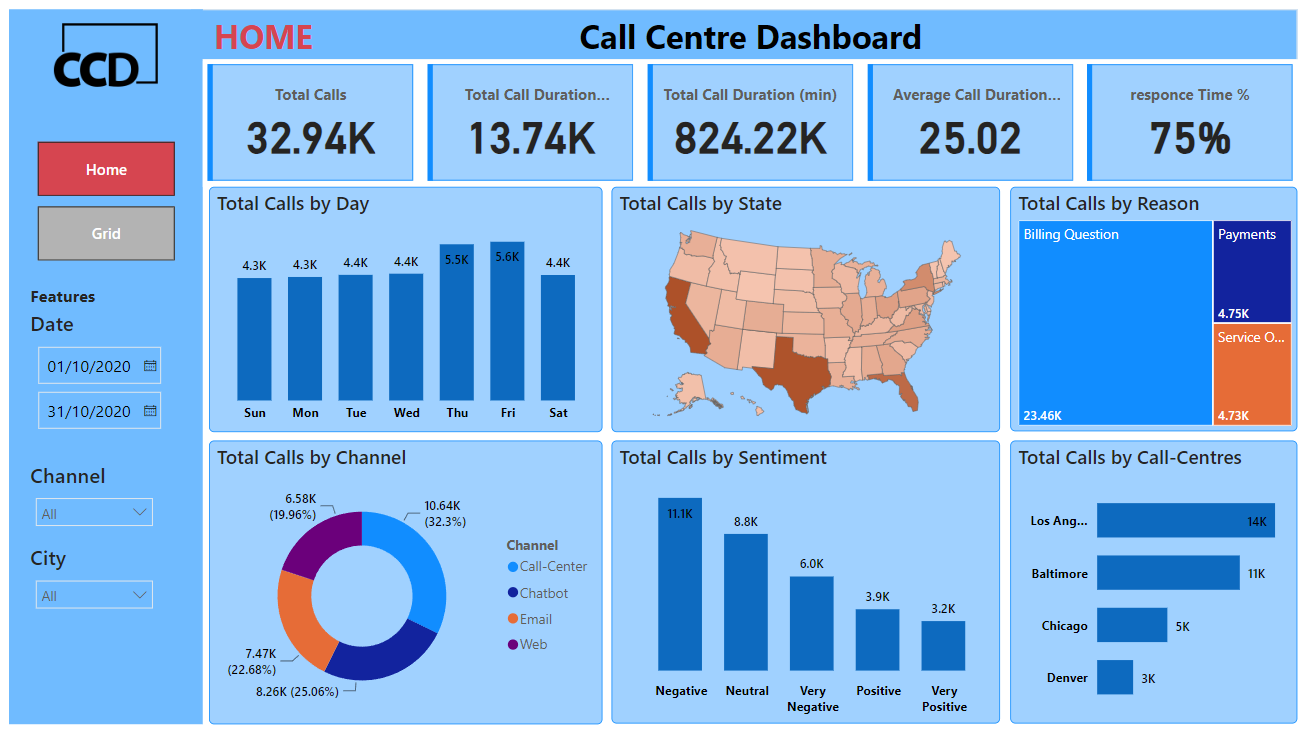

The dashboard page shown, as its layout file describes it:
{"tool":"powerbi","page":{"name":"Home","canvas":[1280,720],"ordinal":0},"visuals":[{"type":"shape","box":[188.3,11,1081.8,50.1],"z":0},{"type":"shape","box":[9.8,11,189.5,699.2],"z":1000},{"type":"cardVisual","fields":{"Data":["Call_Center_Data.Total Calls","Call_Center_Data.Total Call Duration (hours)","Call_Center_Data.Total Call Duration (min)","Call_Center_Data.Average Call Duration (Min)","Call_Center_Data.responce Time %"]},"box":[199,60.4,1071.7,124.9],"z":2000},{"type":"textbox","box":[539.1,11,392.4,56.2],"z":3000},{"type":"columnChart","fields":{"Category":["Date Table.Day"],"Y":["Call_Center_Data.Total Calls"]},"box":[205.4,184.6,385,240],"z":4000},{"type":"shapeMap","fields":{"Category":["Call_Center_Data.State"],"Value":["Call_Center_Data.Total Calls"]},"box":[599,184.6,380,240],"z":5000},{"type":"treemap","fields":{"Group":["Call_Center_Data.Reason"],"Values":["Call_Center_Data.Total Calls"]},"box":[988.9,184.6,281.2,239.6],"z":6000},{"type":"donutChart","fields":{"Category":["Call_Center_Data.Channel"],"Y":["Call_Center_Data.Total Calls"]},"box":[205.4,432.7,385.1,277.5],"z":7000},{"type":"columnChart","fields":{"Category":["Call_Center_Data.Sentiment"],"Y":["Call_Center_Data.Total Calls"]},"box":[599,433,380,277],"z":8000},{"type":"barChart","fields":{"Category":["Call_Center_Data.Call-Centres City"],"Y":["Call_Center_Data.Total Calls"]},"box":[989,433,281,277],"z":9000},{"type":"slicer","title":"Date","fields":{"Values":["Date Table.Date"]},"box":[25.7,304.4,150.4,147.9],"z":10000},{"type":"slicer","title":"Channel","fields":{"Values":["Call_Center_Data.Channel"]},"box":[25.7,452.3,134.5,79.5],"z":11000},{"type":"slicer","title":"City","fields":{"Values":["Call_Center_Data.City"]},"box":[25.7,533,134.5,79.5],"z":12000},{"type":"textbox","box":[205.4,11,124.7,56.2],"z":13000},{"type":"pageNavigator","box":[37.9,140.6,134.5,117.4],"z":14000},{"type":"image","box":[4.9,0,199.3,111.2],"z":15000},{"type":"textbox","box":[25.7,275,108.8,36.7],"z":15001}]}

Visuals, with their boxes in screenshot pixels (x1, y1, x2, y2), scaled from the page's 1280x720 canvas onto the 1307x733 screenshot:
shape: {"left": 192, "top": 11, "right": 1297, "bottom": 62}
shape: {"left": 10, "top": 11, "right": 204, "bottom": 723}
cardVisual - Call_Center_Data.Total Calls x Call_Center_Data.Total Call Duration (hours): {"left": 203, "top": 61, "right": 1298, "bottom": 189}
textbox: {"left": 550, "top": 11, "right": 951, "bottom": 68}
columnChart - Date Table.Day x Call_Center_Data.Total Calls: {"left": 210, "top": 188, "right": 603, "bottom": 432}
shapeMap - Call_Center_Data.State x Call_Center_Data.Total Calls: {"left": 612, "top": 188, "right": 1000, "bottom": 432}
treemap - Call_Center_Data.Reason x Call_Center_Data.Total Calls: {"left": 1010, "top": 188, "right": 1297, "bottom": 432}
donutChart - Call_Center_Data.Channel x Call_Center_Data.Total Calls: {"left": 210, "top": 441, "right": 603, "bottom": 723}
columnChart - Call_Center_Data.Sentiment x Call_Center_Data.Total Calls: {"left": 612, "top": 441, "right": 1000, "bottom": 723}
barChart - Call_Center_Data.Call-Centres City x Call_Center_Data.Total Calls: {"left": 1010, "top": 441, "right": 1297, "bottom": 723}
"Date" slicer: {"left": 26, "top": 310, "right": 180, "bottom": 460}
"Channel" slicer: {"left": 26, "top": 460, "right": 164, "bottom": 541}
"City" slicer: {"left": 26, "top": 543, "right": 164, "bottom": 624}
textbox: {"left": 210, "top": 11, "right": 337, "bottom": 68}
pageNavigator: {"left": 39, "top": 143, "right": 176, "bottom": 263}
image: {"left": 5, "top": 0, "right": 209, "bottom": 113}
textbox: {"left": 26, "top": 280, "right": 137, "bottom": 317}
